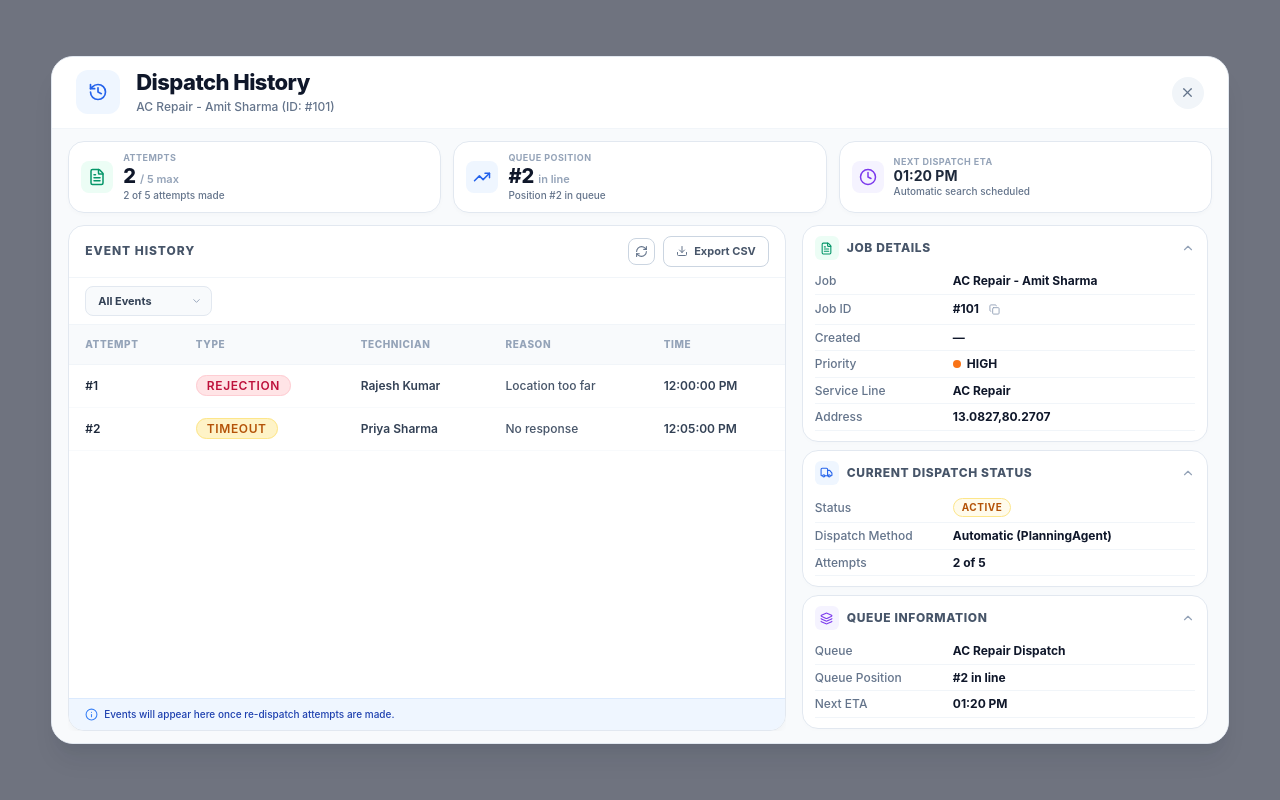
Test: ReDispatchHistory Component › filters timeline entries by event type / reason dropdown selection
The width and height of the screenshot is (1280, 800).
Expected: the text "Location too far" is shown, [505,378,596,393]
Select "Timeouts Only" in the dropdown named "Filter events by type". click: (149, 301)
box: [85,286,212,316]
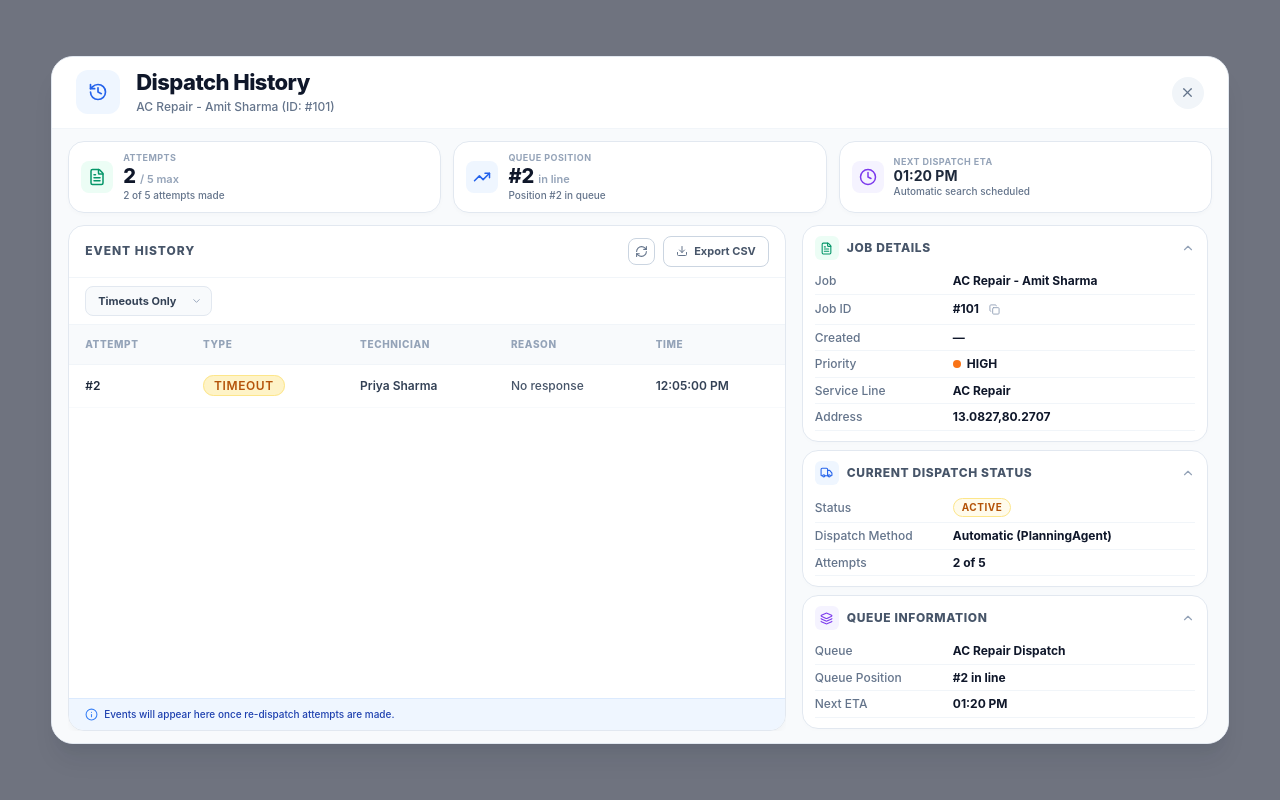
Expected: the text "Location too far" is gone
Expected: the text "No response" is shown, [511,378,584,393]
